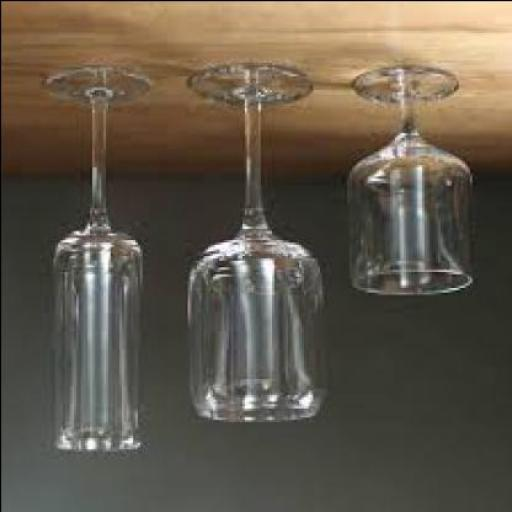glass: (186, 66, 330, 424), (45, 66, 146, 453), (350, 66, 473, 298)
